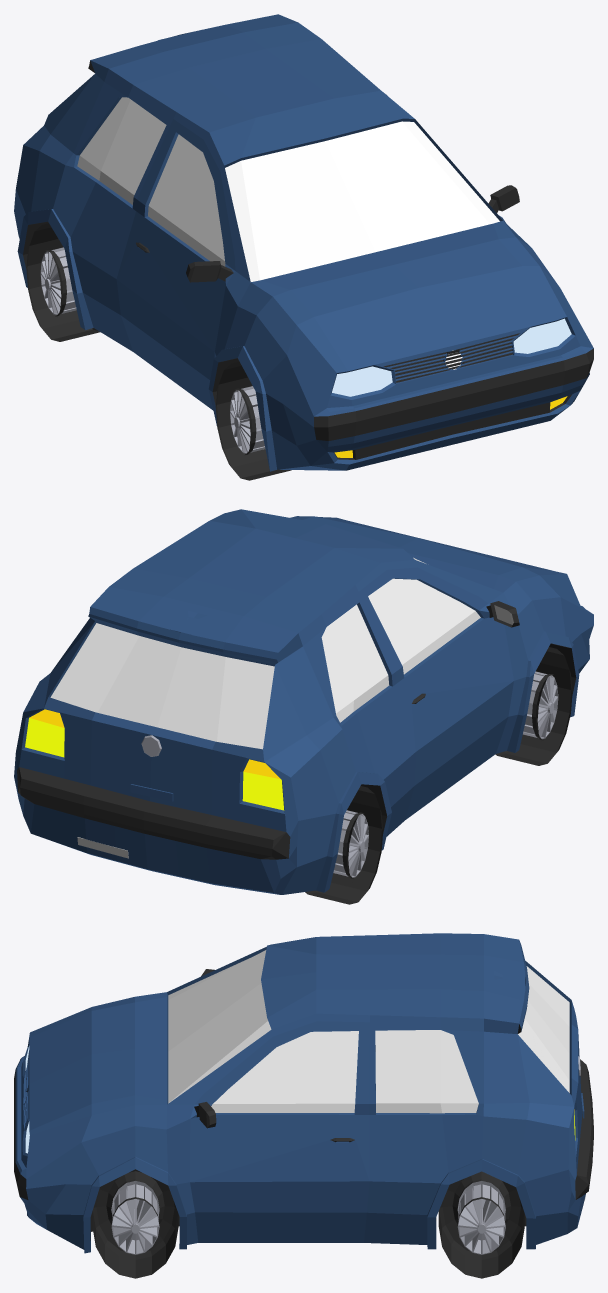
Rendered from auto1azul.glb.
3 renders of one model, top to bottom at view 1: azimuth 30°, elevation 25°; view 2: azimuth 150°, elevation 25°; view 3: azimuth 270°, elevation 25°, orthographic. The views are drawn at different scales.
Visible parts, largest first — view 1: Cube; view 2: Cube; view 3: Cube.
Boxes of the visible parts, x1=… form: Cube: x1=14, y1=14, x2=593, y2=480; Cube: x1=14, y1=509, x2=593, y2=904; Cube: x1=14, y1=933, x2=593, y2=1278.
Bounding box in the file's own units: 1.87 × 1.4 × 3.1.
